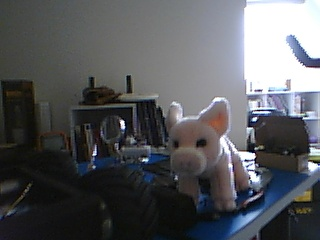piggy: (164, 96, 252, 213)
